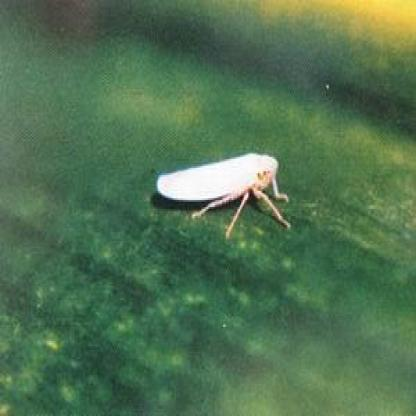Green-Leafhopper: (156, 152, 292, 235)
